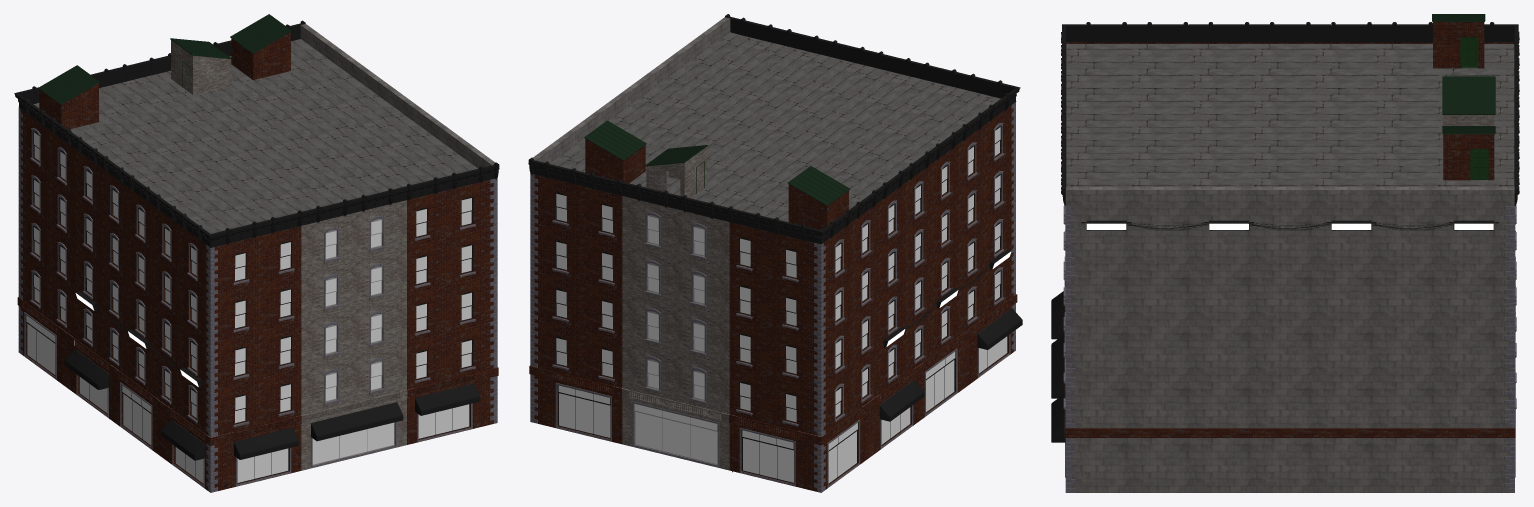
File: Building_14.fbx
3 renders of one model, left to right at view 1: azimuth 30°, elevation 25°; view 2: azimuth 150°, elevation 25°; view 3: azimuth 270°, elevation 25°, orthographic. The views are drawn at different scales.
Parts seen in each view (by area): view 1: Building_14_LOD0; view 2: Building_14_LOD0; view 3: Building_14_LOD0.
Part boxes in pixels (bbox=[...]): Building_14_LOD0: bbox=[14, 14, 499, 492]; Building_14_LOD0: bbox=[528, 14, 1022, 492]; Building_14_LOD0: bbox=[1051, 14, 1519, 492].
Bounding box in the file's own units: 2446 × 2205 × 2795.
